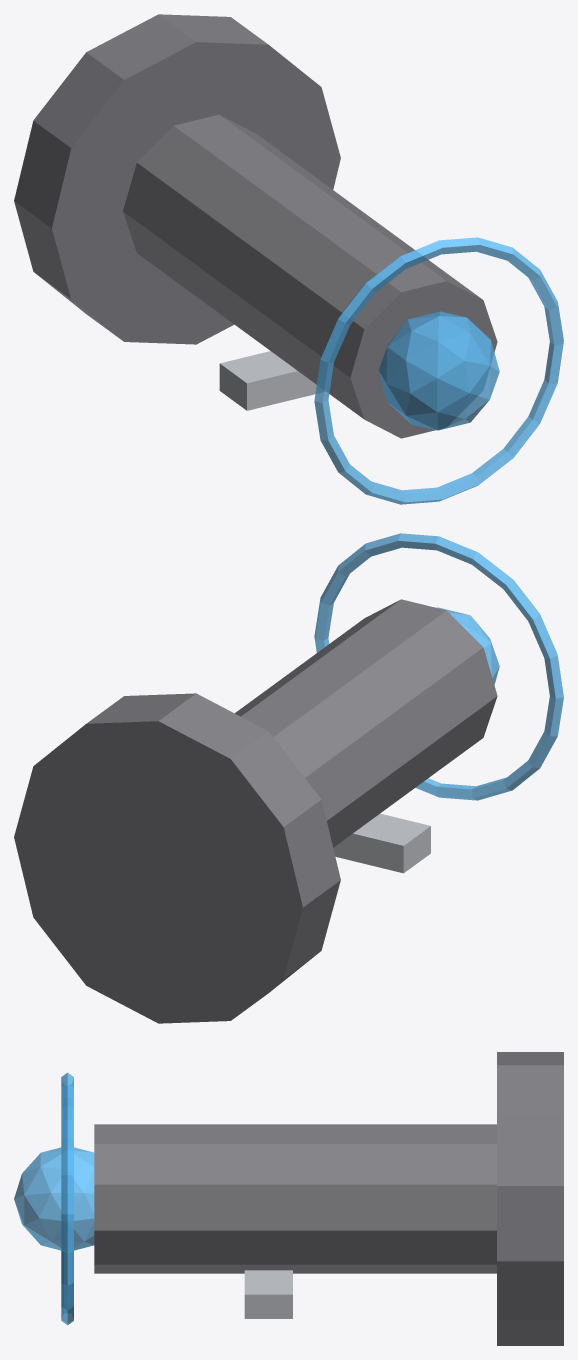
The model's file is parasite_hive_pylon.glb.
3 views of the same model, one above another, from view 1: azimuth 30°, elevation 25°; view 2: azimuth 150°, elevation 25°; view 3: azimuth 270°, elevation 25° (orthographic). The views are drawn at different scales.
Parts seen in each view (by area): view 1: tower_body, base, signal_ring, energy_core, armor_plate; view 2: base, tower_body, signal_ring, armor_plate, energy_core; view 3: tower_body, base, energy_core, signal_ring, armor_plate.
Part boxes in pixels (x1=…): tower_body: x1=123, y1=114, x2=497, y2=438; base: x1=14, y1=14, x2=340, y2=344; signal_ring: x1=314, y1=237, x2=563, y2=504; energy_core: x1=379, y1=311, x2=499, y2=430; armor_plate: x1=219, y1=351, x2=324, y2=410; base: x1=14, y1=693, x2=340, y2=1023; tower_body: x1=235, y1=599, x2=497, y2=847; signal_ring: x1=314, y1=533, x2=563, y2=800; armor_plate: x1=333, y1=813, x2=430, y2=873; energy_core: x1=436, y1=607, x2=499, y2=684; tower_body: x1=94, y1=1124, x2=496, y2=1273; base: x1=497, y1=1052, x2=563, y2=1345; energy_core: x1=14, y1=1147, x2=94, y2=1250; signal_ring: x1=61, y1=1072, x2=73, y2=1325; armor_plate: x1=244, y1=1270, x2=292, y2=1318.
Bounding box in the file's own units: 1.1 × 1.1 × 2.05.
